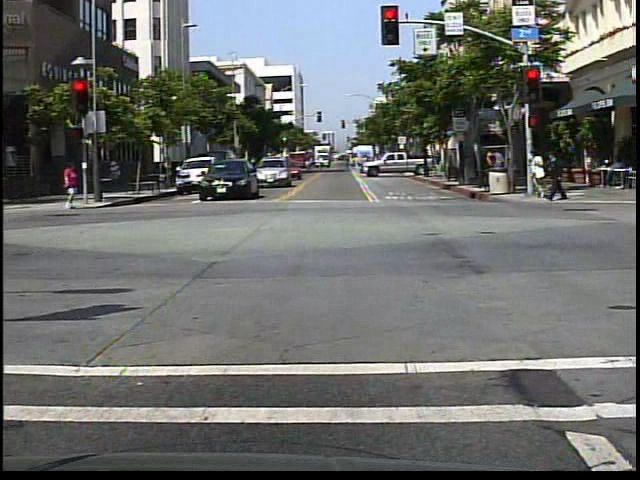person: (543, 146, 570, 204), (63, 160, 84, 212), (531, 145, 547, 201)
